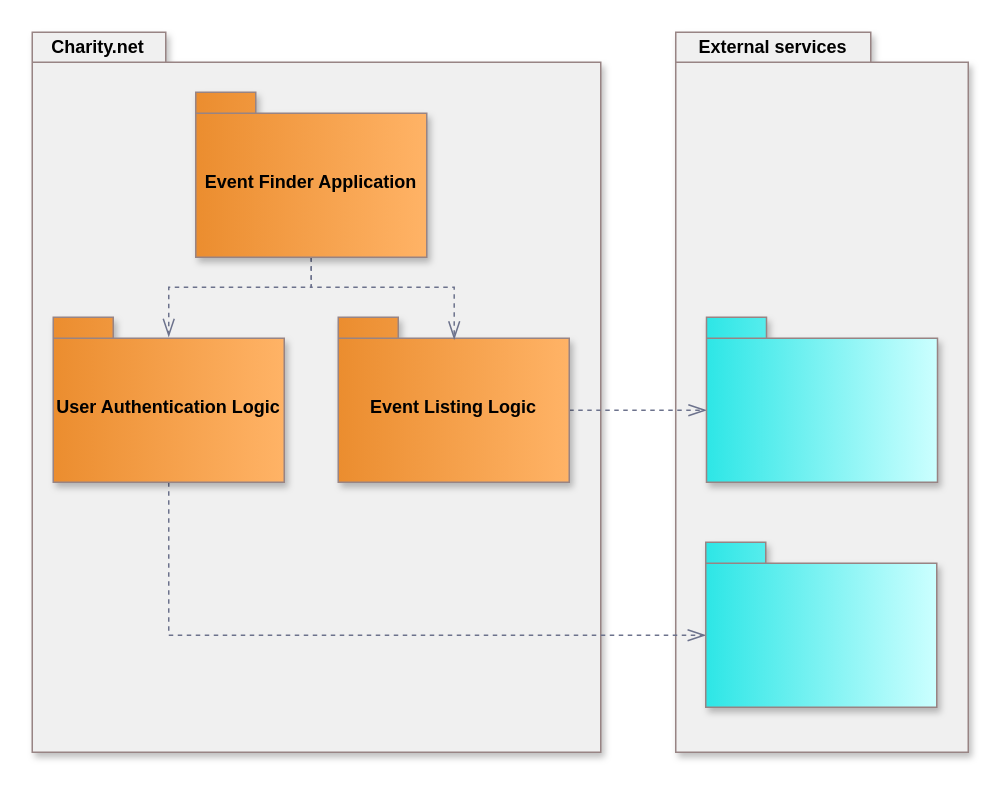
This 1004x789 diagram has some shape labels left out. The shapes that lost their labels are listed below. From the top down, each one's centre as x and y in pixels, then its label:
(822,401): Cloud Firestore
(822,626): Firebase Authentication
